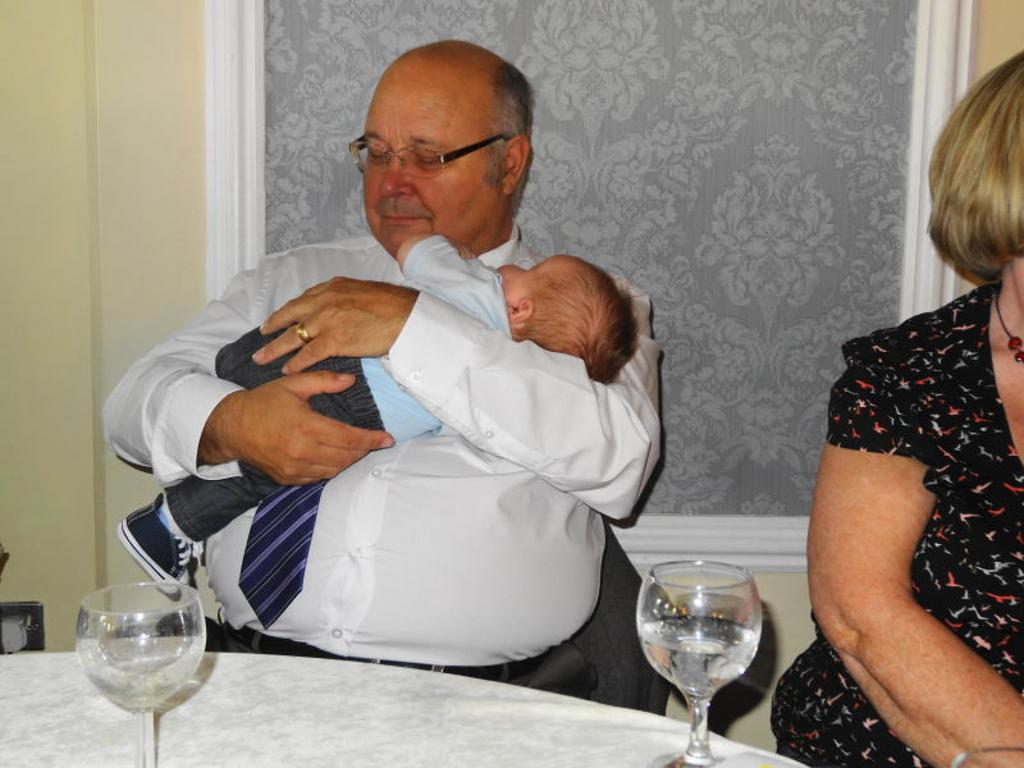face: (364, 68, 498, 258), (498, 256, 626, 308)
